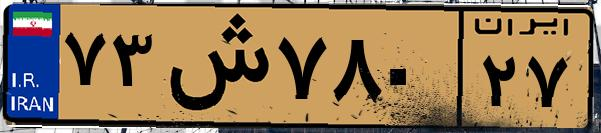0: (385, 28, 445, 110)
2: (475, 38, 525, 113)
3: (110, 28, 158, 98)
7: (270, 28, 330, 110), (57, 26, 110, 100), (525, 38, 570, 115)
8: (330, 28, 385, 110)
ش: (158, 12, 270, 120)
